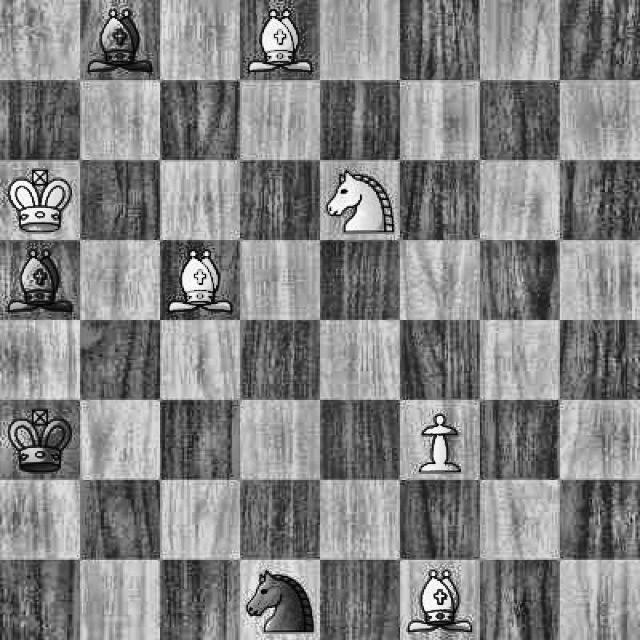Black Knight: (240, 562, 318, 638)
black bishop: (81, 0, 158, 80), (0, 242, 76, 320)
black king: (0, 399, 78, 477)
white bishop: (400, 560, 477, 640), (162, 243, 238, 319), (240, 0, 314, 75)
white king: (2, 161, 78, 236)
white pawn: (401, 400, 478, 479)
whiteknight: (324, 163, 397, 239)
